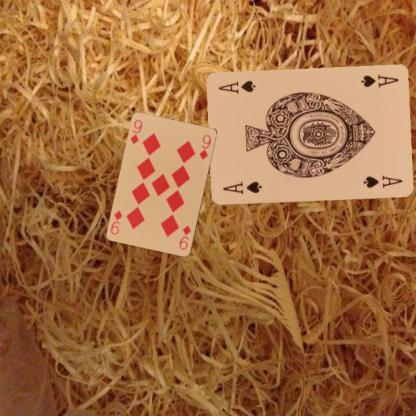9d: (177, 222, 192, 252), (128, 117, 143, 146)
As: (220, 179, 263, 196), (358, 72, 400, 89)
